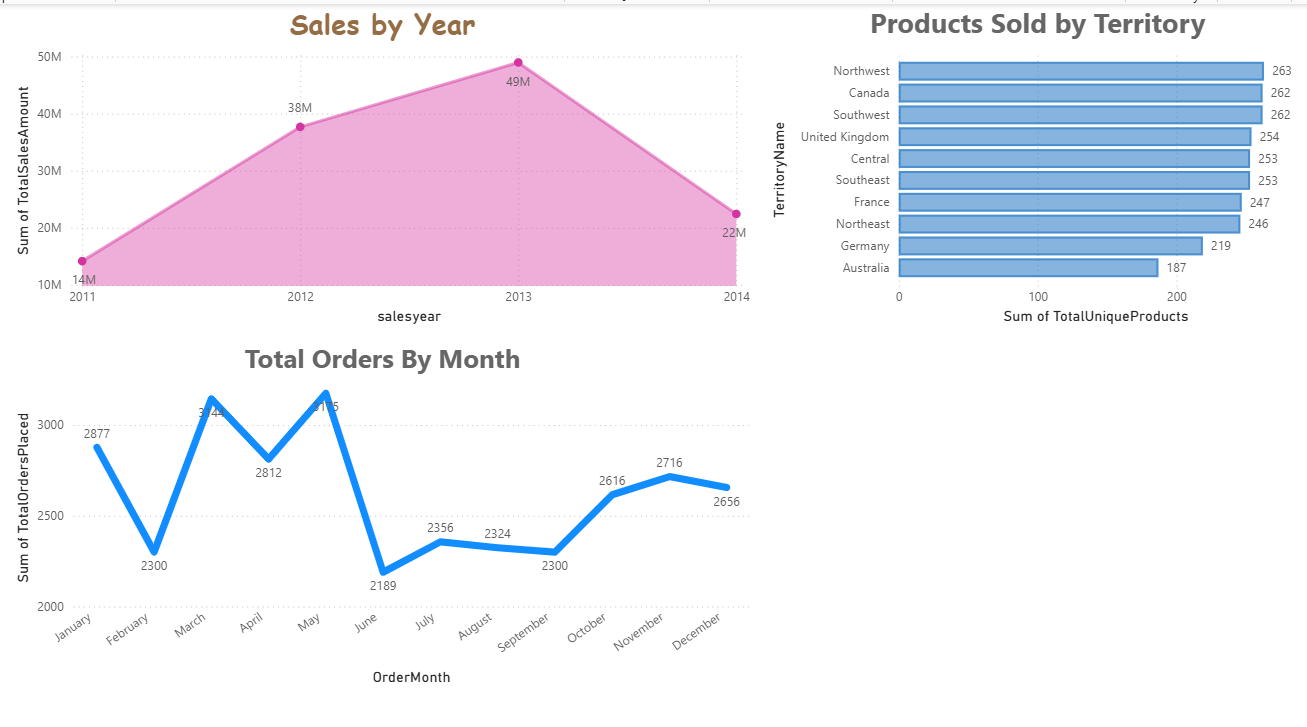

Layout of this report page (visuals, bound fields, positions):
{"tool":"powerbi","page":{"name":"Sales_trend","canvas":[1280,720],"ordinal":3},"visuals":[{"type":"lineChart","title":"Sales by Year","fields":{"Category":["SalesByYear.salesyear"],"Y":["Sum(SalesByYear.TotalSalesAmount)"]},"box":[10,0,728.8,318.8],"z":0},{"type":"lineChart","title":"Total Orders By Month","fields":{"Category":["OrdersByMonth.OrderMonth"],"Y":["Sum(OrdersByMonth.TotalOrdersPlaced)"]},"box":[10,328.8,728.8,342.5],"z":1},{"type":"clusteredBarChart","title":"Products Sold by Territory","fields":{"Category":["ProductsSoldbyTerritory.TerritoryName"],"Y":["Sum(ProductsSoldbyTerritory.TotalUniqueProducts)"]},"box":[749,0,531,319],"z":2}]}

Visuals, with their boxes in screenshot pixels (x1, y1, x2, y2), scaled from the page's 1280x720 canvas onto the 1307x727 screenshot:
"Sales by Year" lineChart: <region>10, 0, 754, 322</region>
"Total Orders By Month" lineChart: <region>10, 332, 754, 678</region>
"Products Sold by Territory" clusteredBarChart: <region>765, 0, 1306, 322</region>
